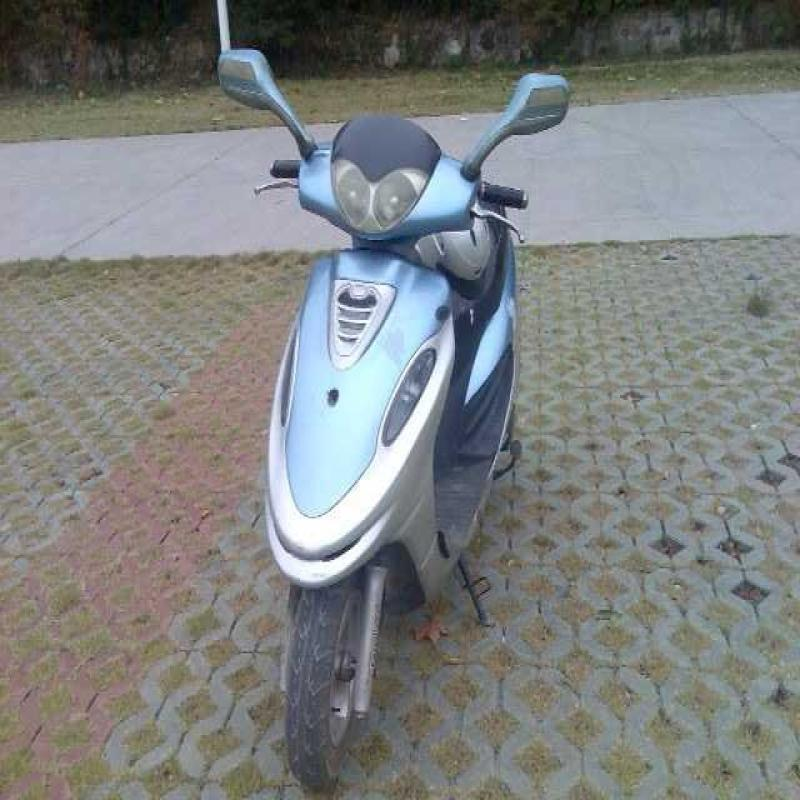bike: (202, 0, 578, 798)
